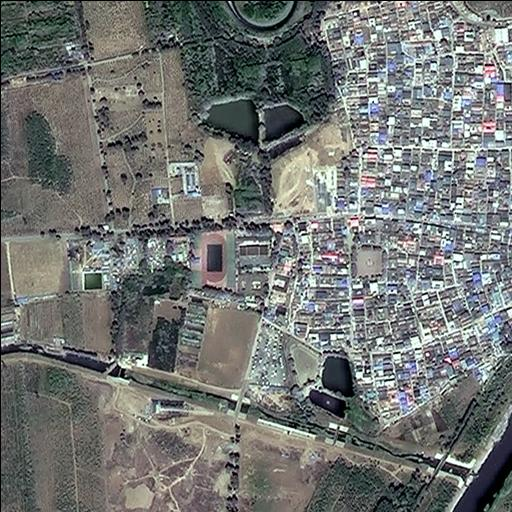school: (191, 223, 273, 287)
